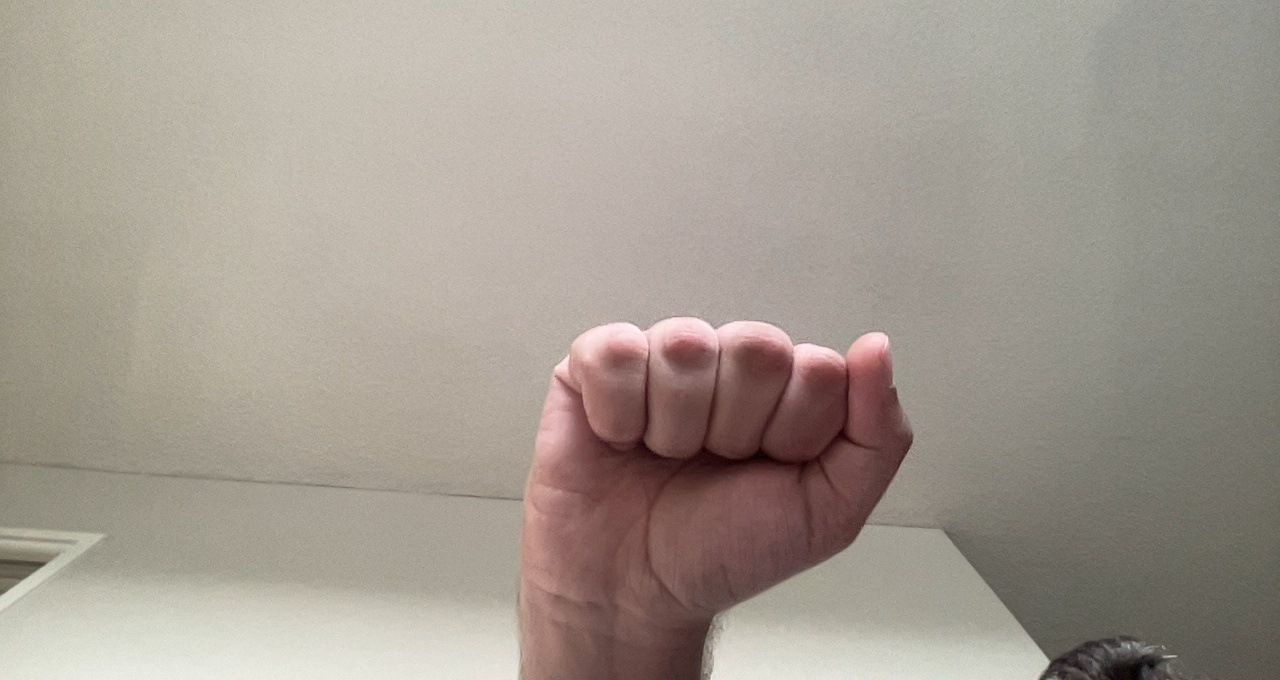closedfist: (514, 312, 923, 645)
